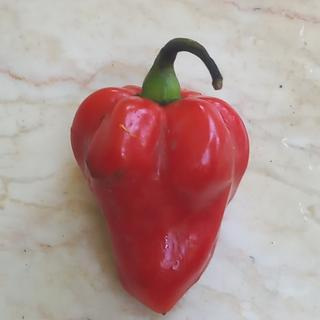Grade-A: (60, 78, 251, 316)
